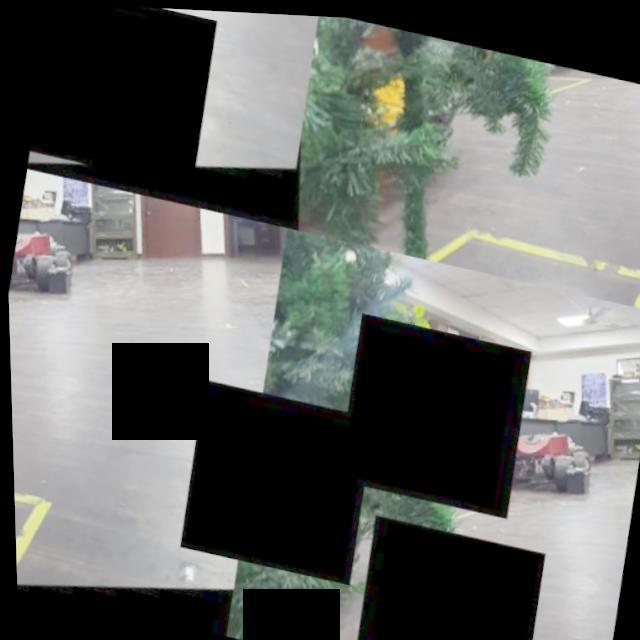Tree: (213, 222, 588, 640), (276, 13, 559, 278)
